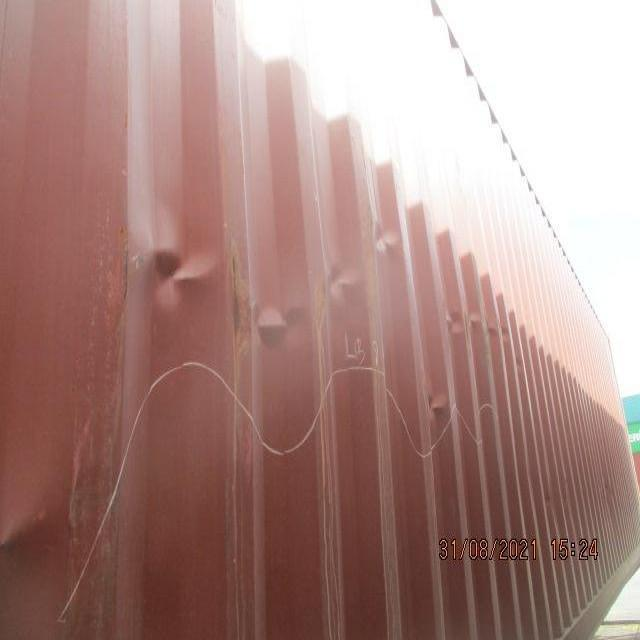dent: (121, 189, 421, 370), (435, 300, 518, 357), (414, 374, 456, 433)
